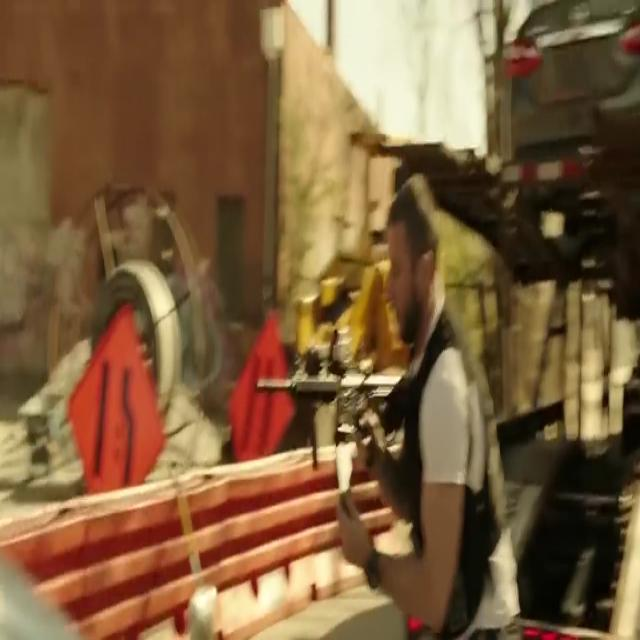Weapon: (236, 308, 416, 489)
